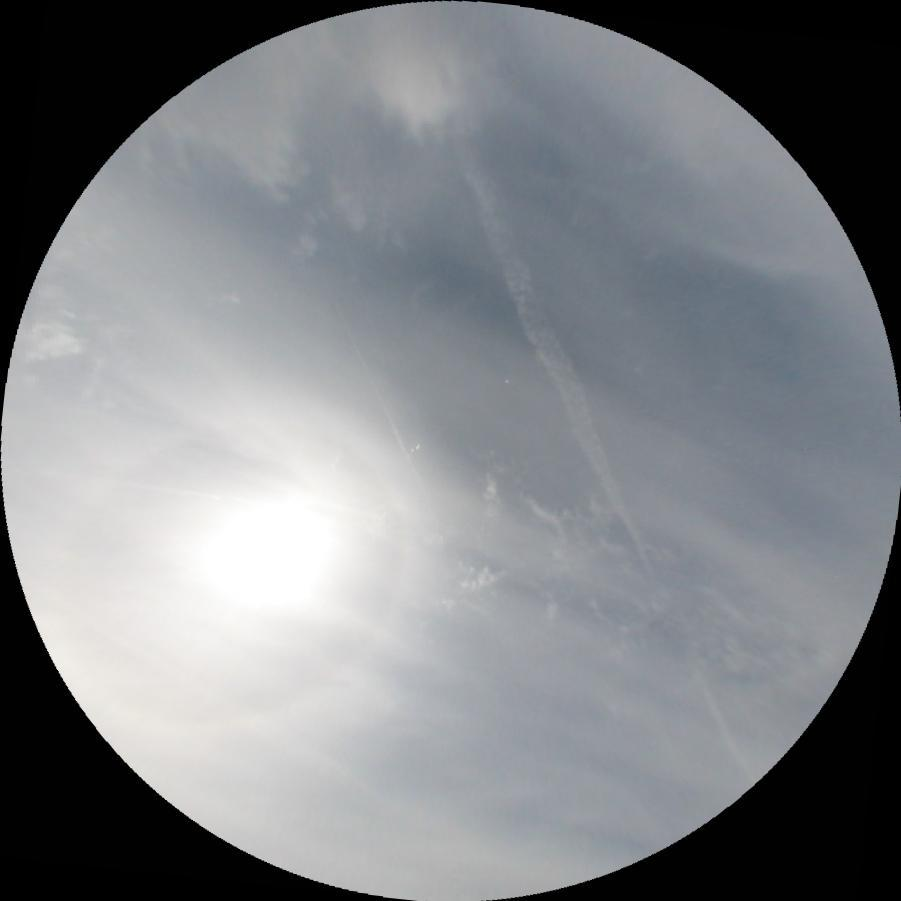contrail veryold: (444, 125, 752, 796)
contrail young: (323, 277, 432, 505)
parasite: (0, 469, 268, 501)
sun: (197, 499, 333, 609)
